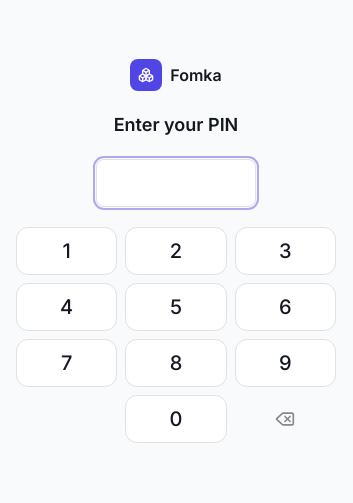
Test: Login › says so when there were too many wrong PINs
Type "1111" into the password field named "PIN". click: (176, 183)
box: [96,159,256,207]
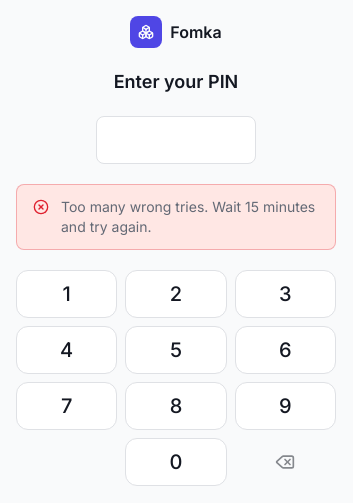
Check: the message shows "15 minutes", box [61,198,315,235]
